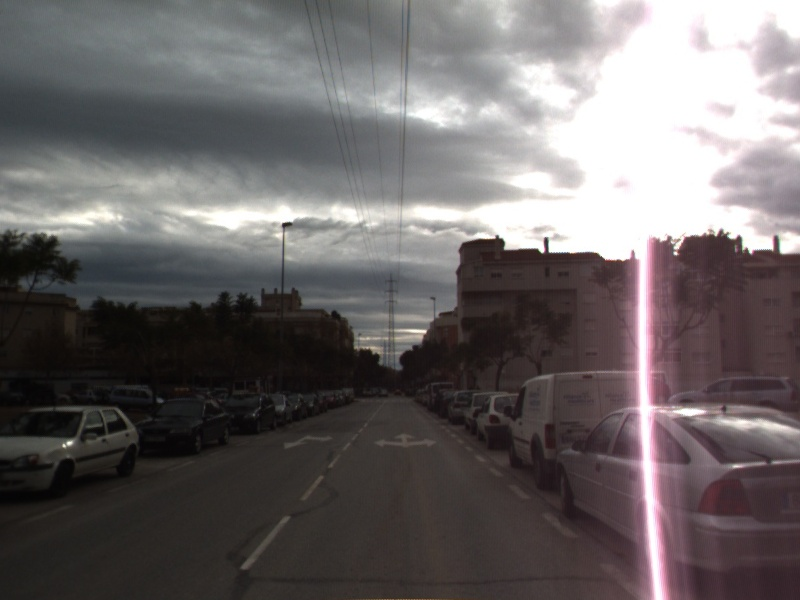STRAIGHT_LEFT_RIGHT: (372, 431, 439, 450)
